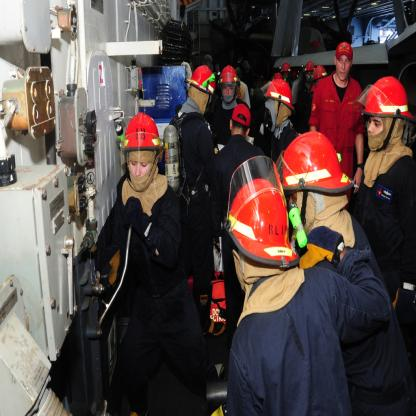Helmet: (233, 158, 299, 286), (279, 131, 350, 223), (357, 74, 410, 146), (119, 114, 165, 170), (188, 65, 216, 102), (219, 66, 240, 101), (267, 82, 293, 110)
